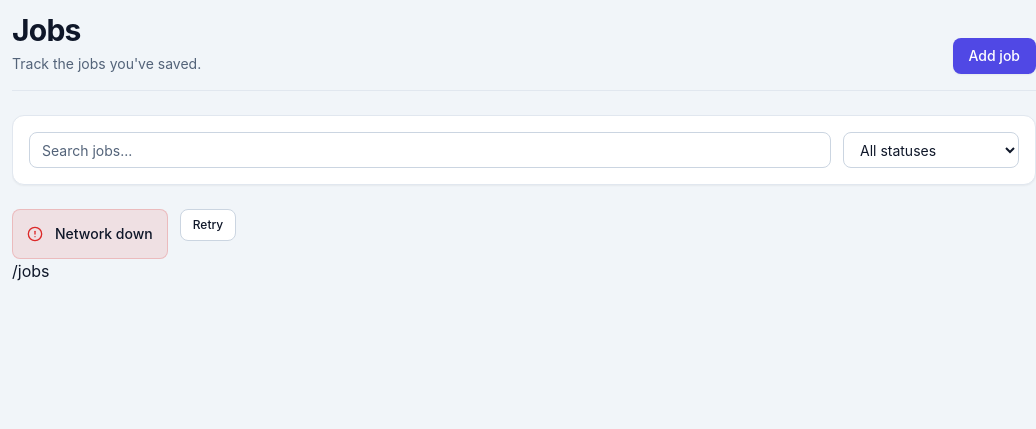
Scenario: JobsPage › shows an error state with a retry button on load failure
The width and height of the screenshot is (1036, 429).
Expected: the text "Network down" is shown, [55, 224, 153, 244]
Click the button "Retry" at (208, 225), box [180, 209, 236, 241]
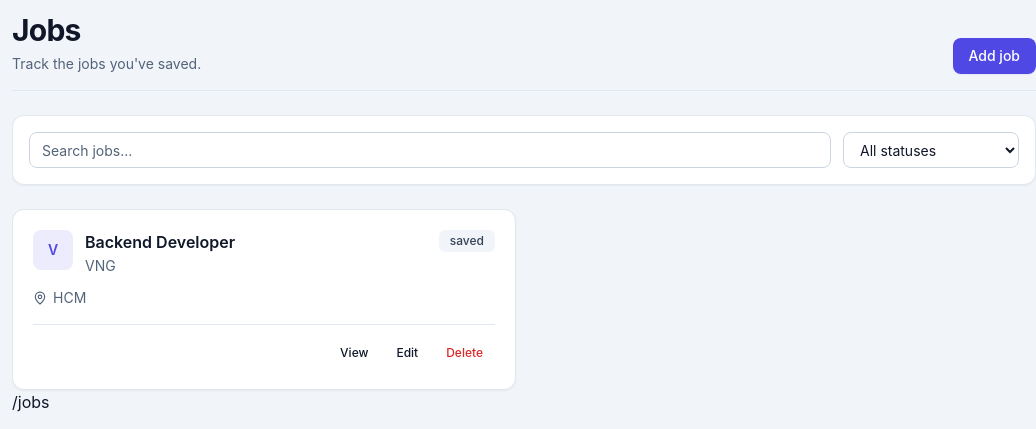
Now the link "Backend Developer" is shown, box [85, 232, 235, 252]
